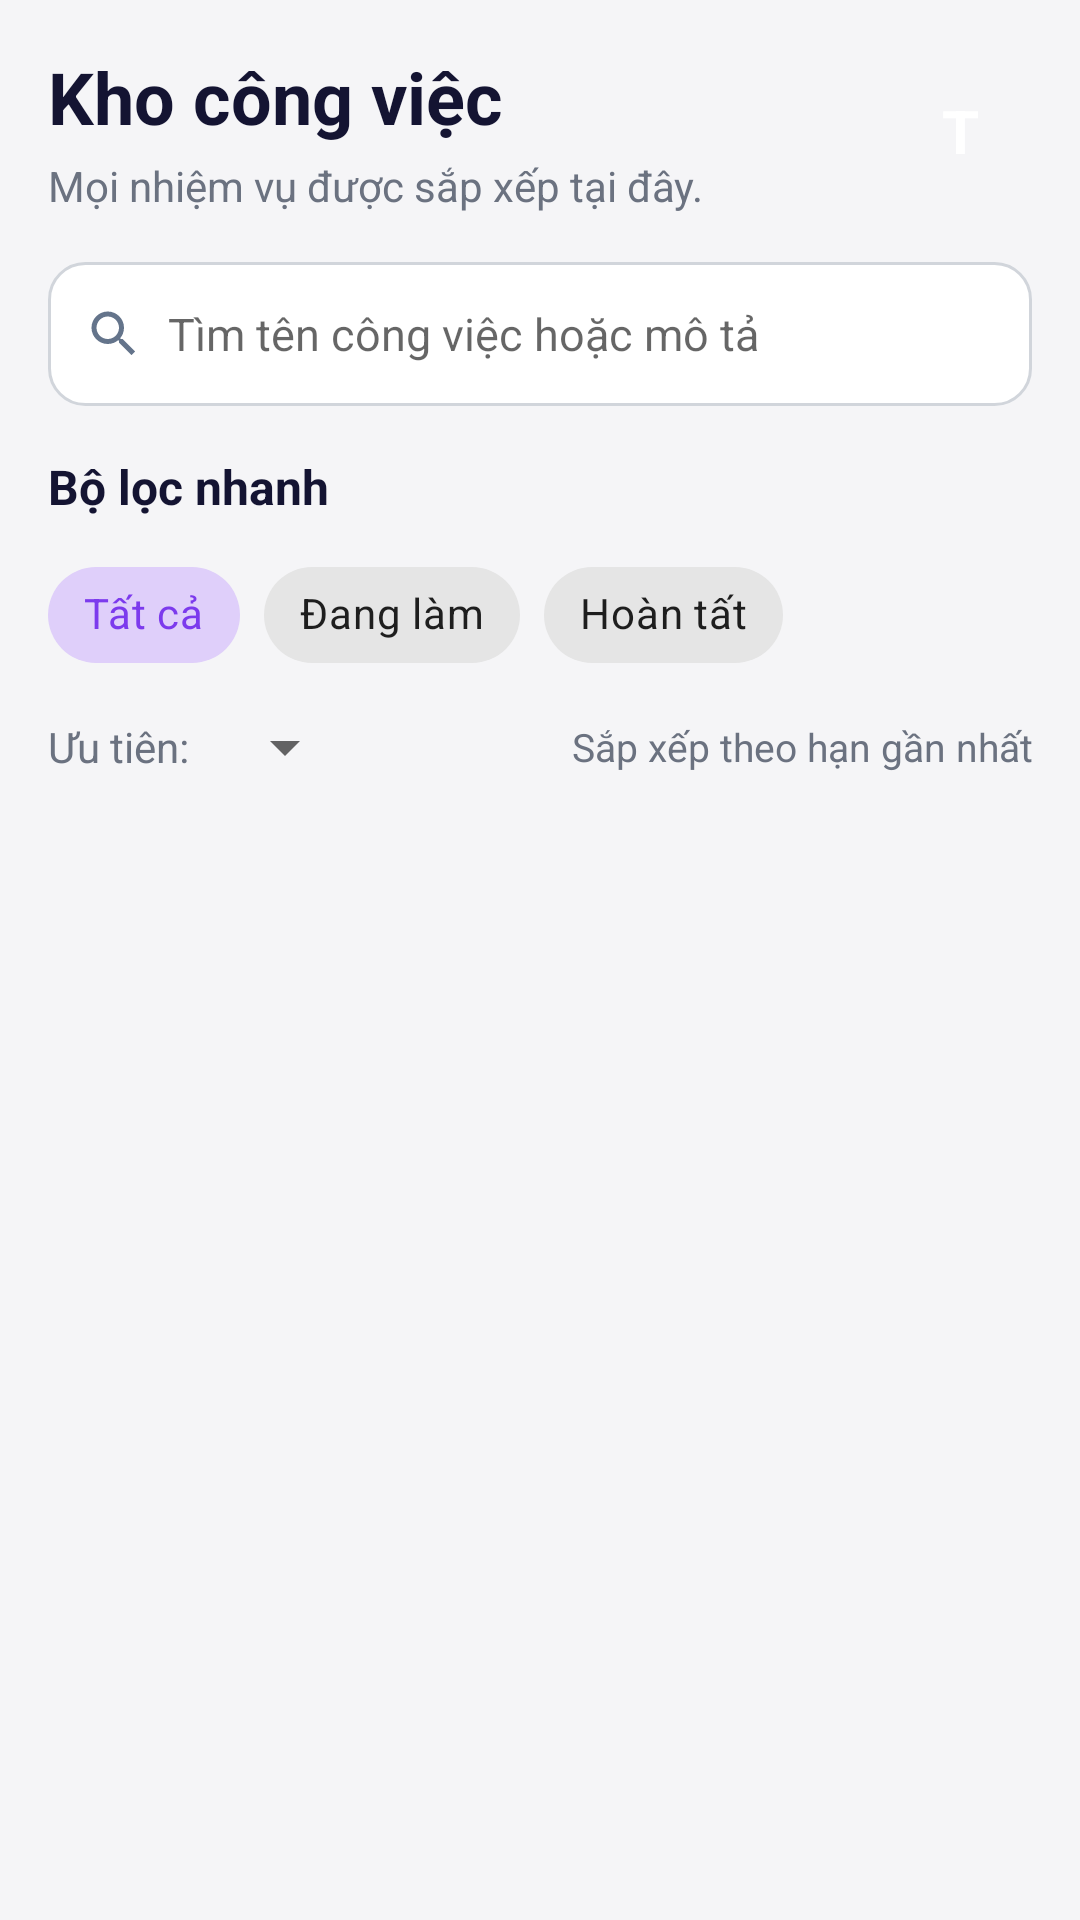

Screen size 1080px×1920px. Icon name, then its box in pixels as (x1, y1, x2, y2):
search: (91, 311, 135, 355)
